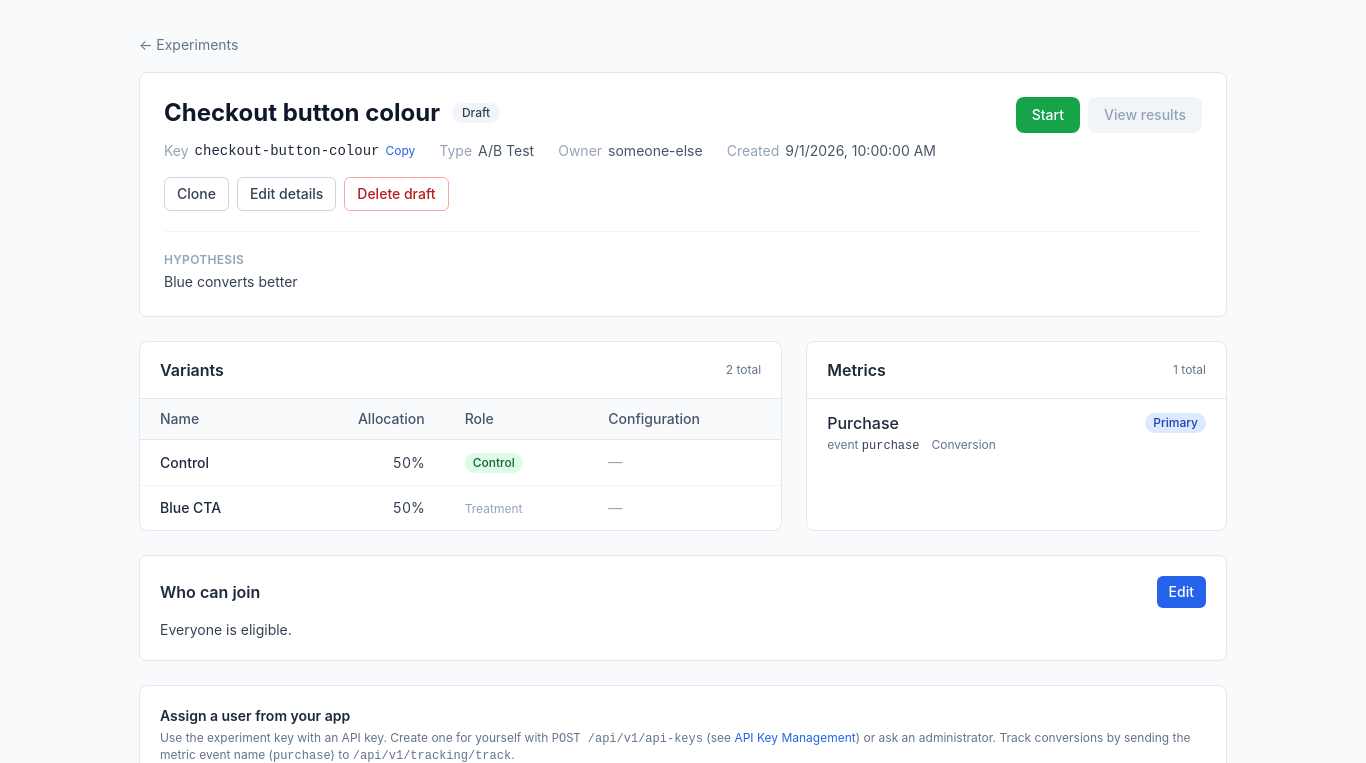
Test case: Edit details › a description first set on a draft that had none is sent
This screenshot has width=1366, height=763.
Click the button with test id "experiment-edit-details" at [287, 194], box [237,177,336,211]
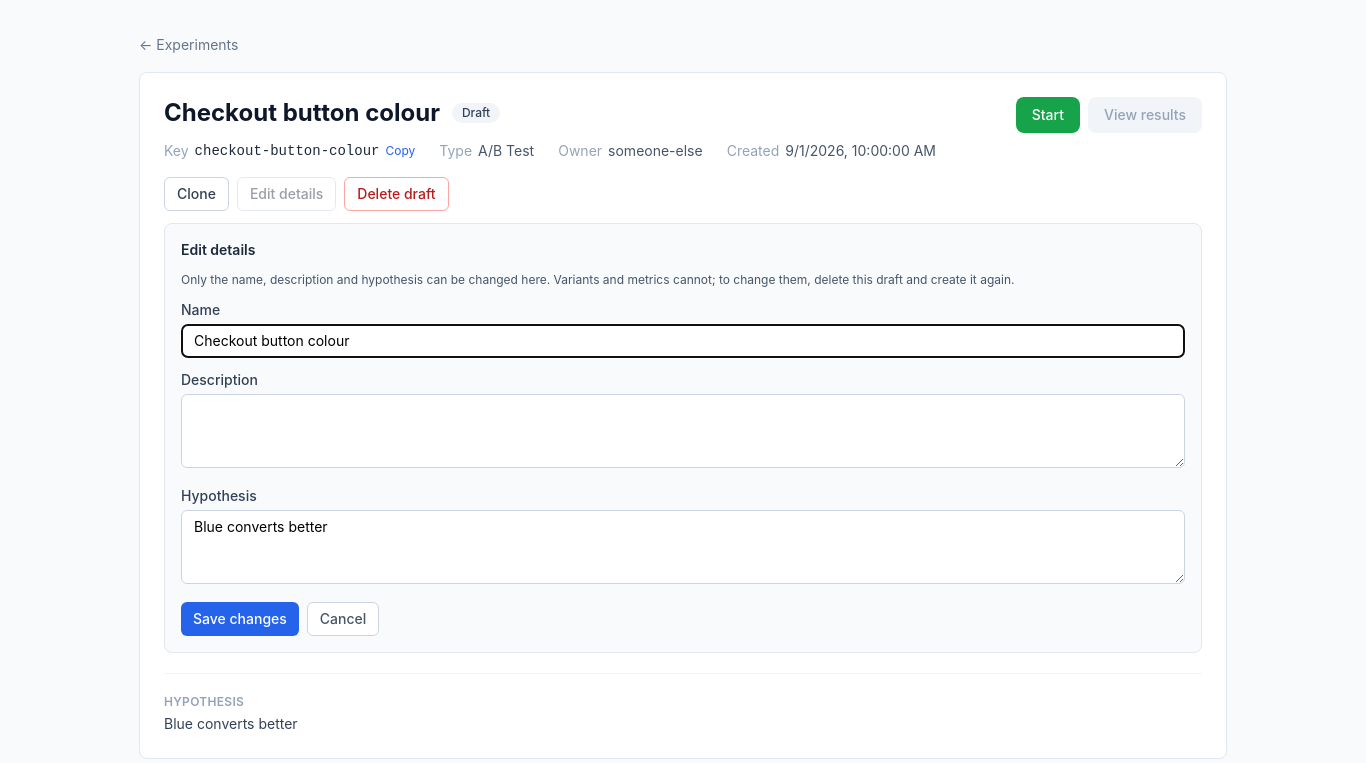
Now the text box with test id "manage-edit-description" is empty
Type "Now described" into the text box with test id "manage-edit-description" at [683, 431], box [181,394,1185,468]
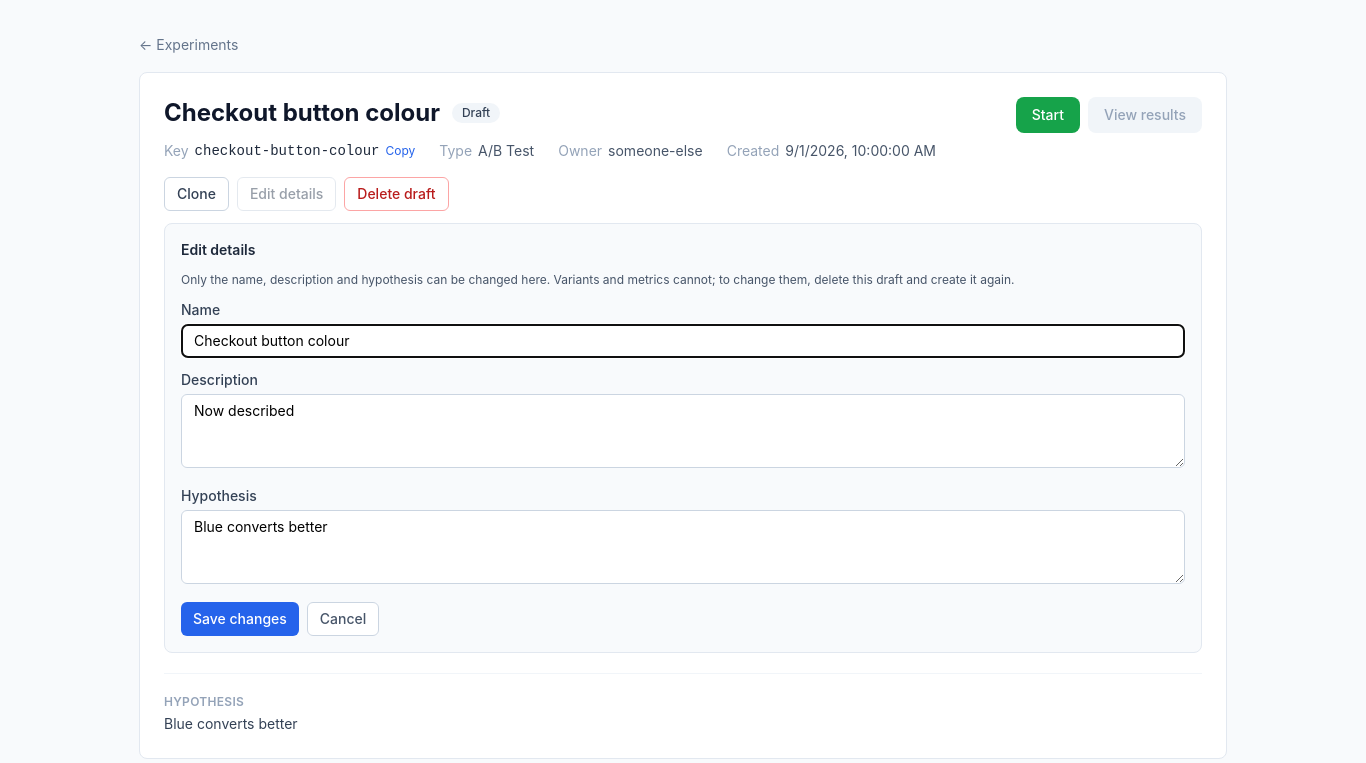
Click the button with test id "manage-edit-save" at [240, 619], box [181,602,299,636]
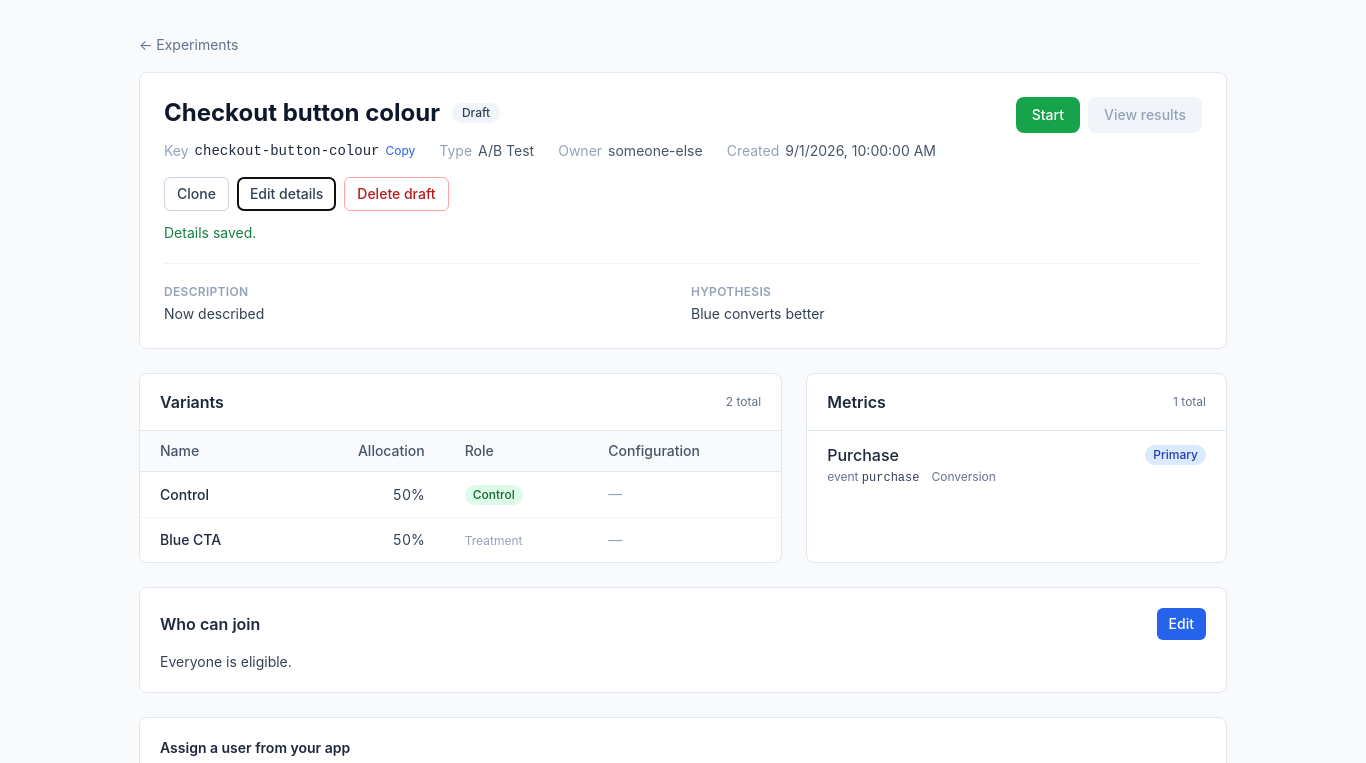
Now the message "Details saved." is shown, box [164,224,256,241]
